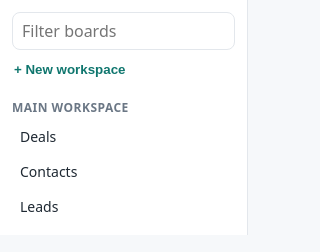
Test case: LeftNav › filters boards by name, case-insensitive (A4.3)
expect the link "Deals" is shown: met, box [20,127,56,146]
Type "CON" into the field with test id "nav-filter" at (124, 31), box [12,12,235,50]
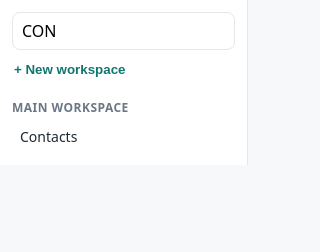
expect the links read "Contacts", in this order: met, box [20,127,77,146]
